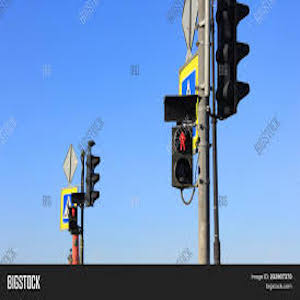red: (177, 130, 189, 154)
